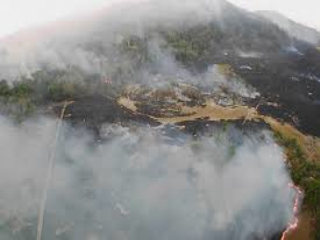fire: (289, 179, 306, 229)
smoke: (2, 119, 182, 237), (150, 127, 295, 234), (16, 31, 179, 97), (191, 67, 268, 106)
